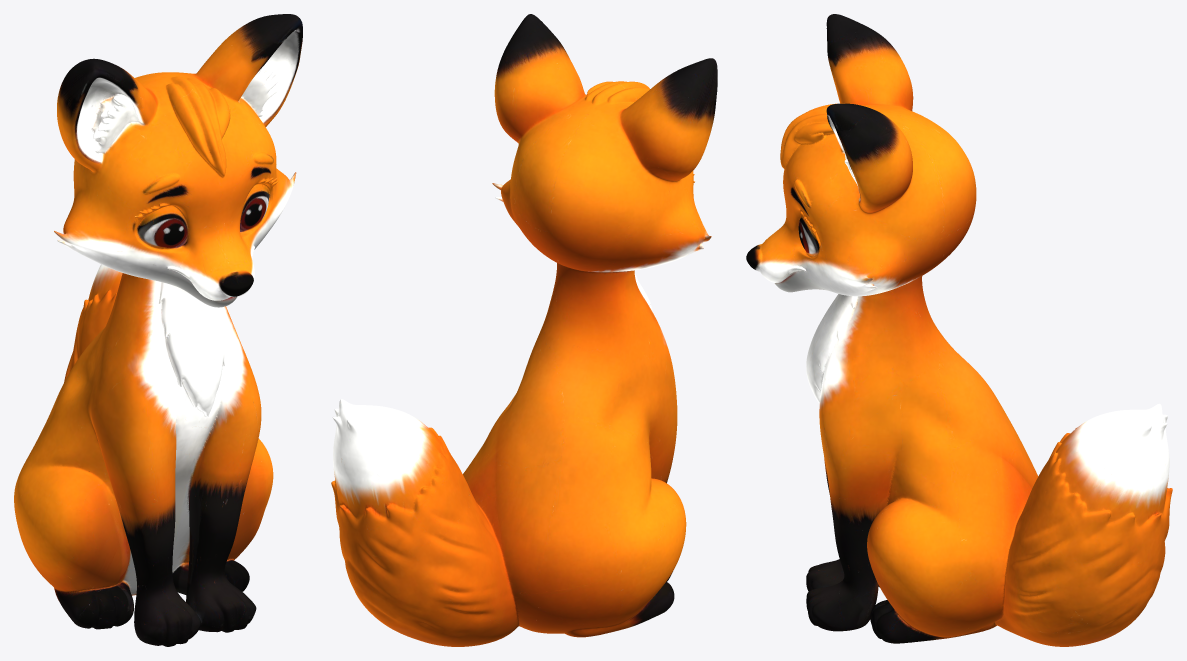
The model's file is 3DWorkspace Models.glb.
3 renders of one model, left to right at view 1: azimuth 30°, elevation 25°; view 2: azimuth 150°, elevation 25°; view 3: azimuth 270°, elevation 25°, orthographic. The views are drawn at different scales.
Size of the model in its own units: 1.02 by 2 by 1.41.
1 material, 1 textured.
